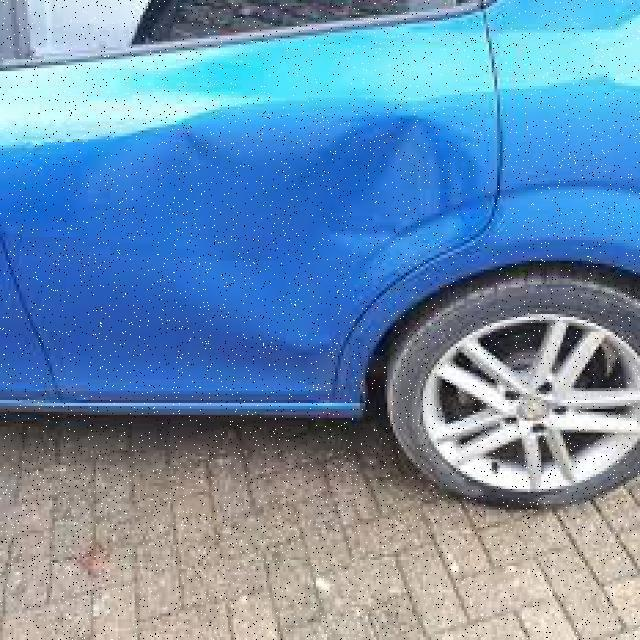doorouter-dent: (0, 47, 462, 406)
